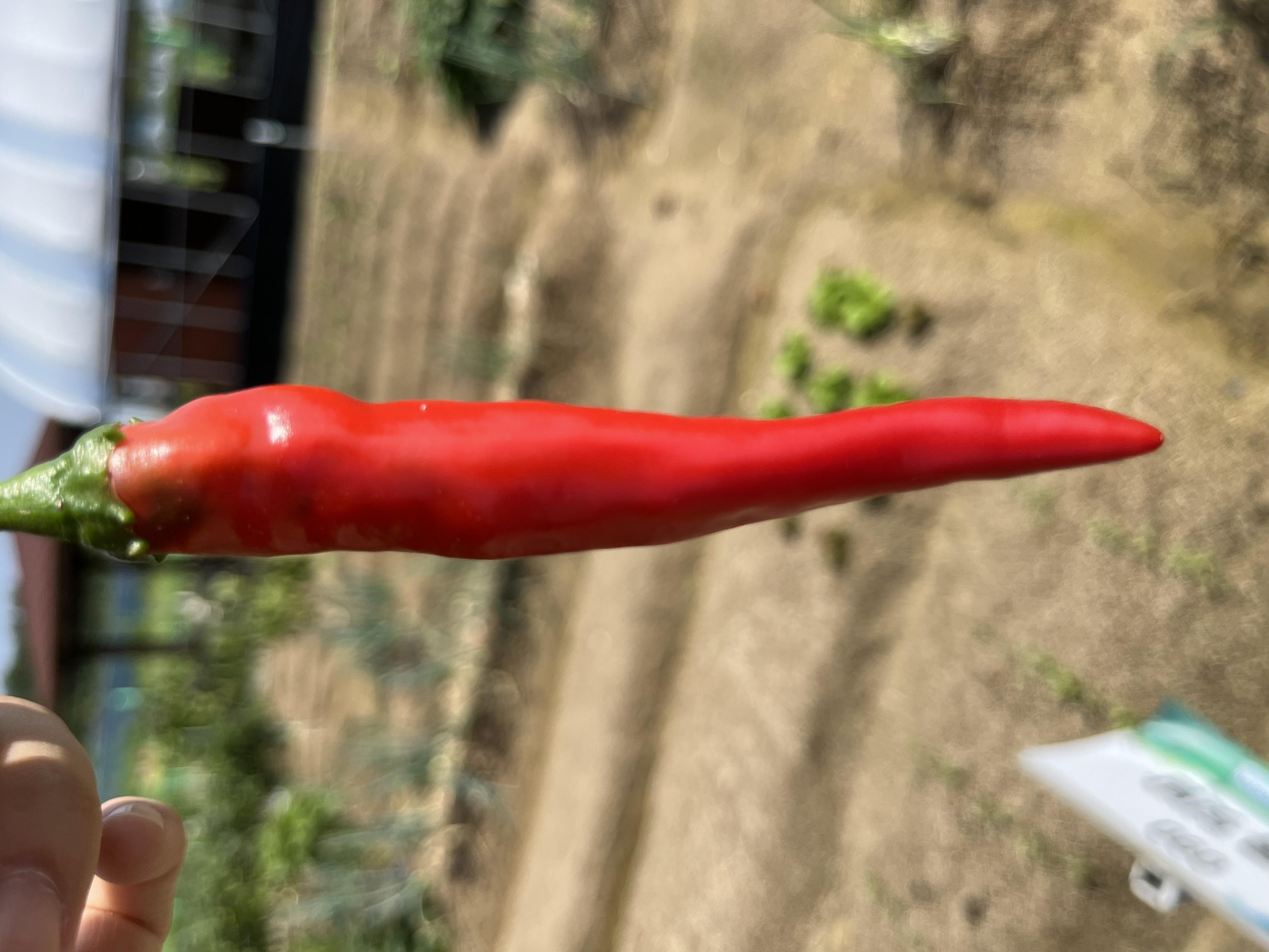Buah Cabai Sehat: (468, 42, 810, 897)
